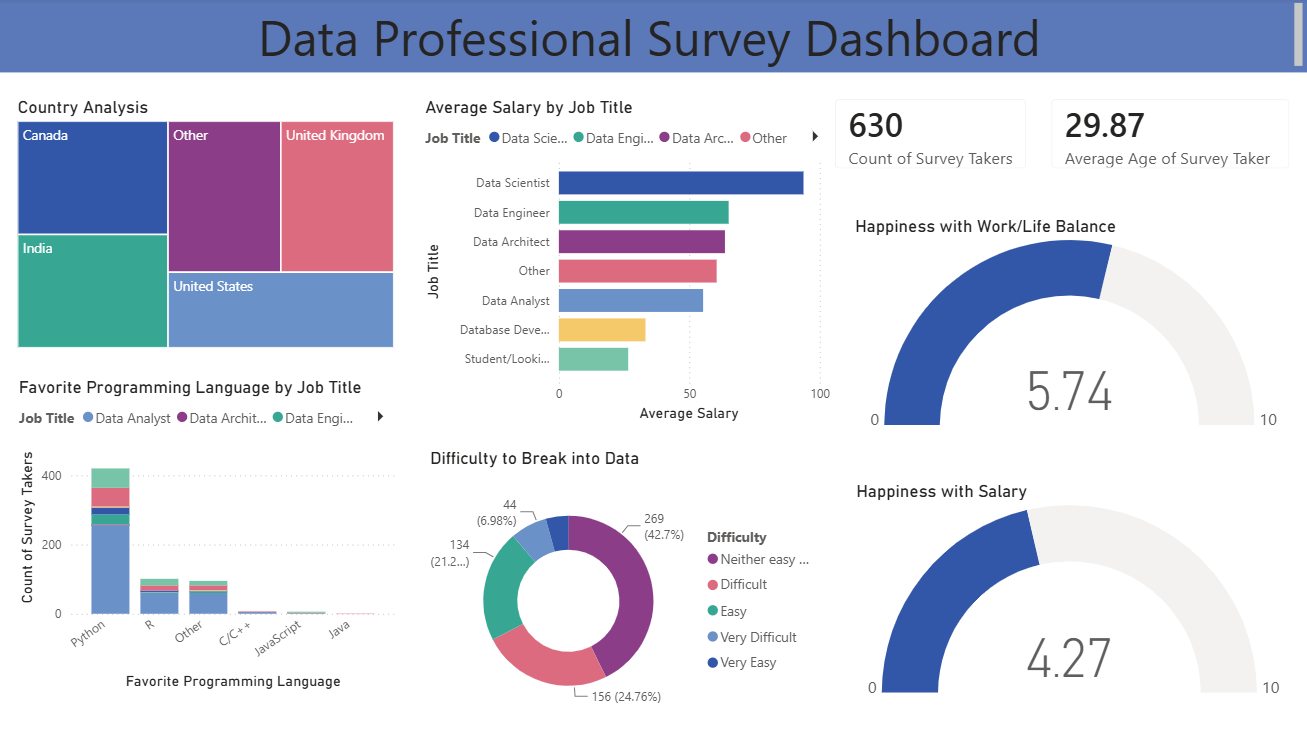

The page's visual inventory and layout, read from the dashboard file:
{"tool":"powerbi","page":{"name":"Page 1","canvas":[1280,720],"ordinal":0},"visuals":[{"type":"textbox","box":[0,0,1280.3,72.7],"z":0},{"type":"cardVisual","fields":{"Data":["Count(Data Professional Survey.Unique ID)"]},"box":[801,81.9,221.3,102.7],"z":1000},{"type":"cardVisual","fields":{"Data":["Avg(Data Professional Survey.Q10 - Current Age)"]},"box":[1012.5,81.9,267.8,102.7],"z":2000},{"type":"barChart","title":"Average Salary by Job Title","fields":{"Category":["Data Professional Survey.Q1 - Which Title Best Fits your Current Role?.1"],"Y":["Avg(Data Professional Survey.Average Salary)"],"Series":["Data Professional Survey.Q1 - Which Title Best Fits your Current Role?.1"]},"box":[412.1,96.6,406,322.8],"z":3000},{"type":"columnChart","title":"Favorite Programming Language by Job Title","fields":{"Category":["Data Professional Survey.Q5 - Favorite Programming Language.1"],"Y":["CountNonNull(Data Professional Survey.Unique ID)"],"Series":["Data Professional Survey.Q1 - Which Title Best Fits your Current Role?.1"]},"box":[14.7,370.5,377.9,310.6],"z":4000},{"type":"treemap","title":"Country Analysis","fields":{"Group":["Data Professional Survey.Q11 - Which Country do you live in?.1"],"Values":["Count(Data Professional Survey.Q11 - Which Country do you live in?.1)"]},"box":[13.5,96.6,377.9,250.7],"z":5000},{"type":"gauge","title":"Happiness with Work/Life Balance","fields":{"Y":["Avg(Data Professional Survey.Q6 - How Happy are you in your Current Position with the following? (Work/Life Balance))"],"MinValue":["Min(Data Professional Survey.Q6 - How Happy are you in your Current Position with the following? (Work/Life Balance))1"],"MaxValue":["Max(Data Professional Survey.Q6 - How Happy are you in your Current Position with the following? (Work/Life Balance))2"]},"box":[832.7,212.8,437.8,215.2],"z":6000},{"type":"gauge","title":"Happiness with Salary","fields":{"Y":["Avg(Data Professional Survey.Q6 - How Happy are you in your Current Position with the following? (Salary))"],"MinValue":["Min(Data Professional Survey.Q6 - How Happy are you in your Current Position with the following? (Salary))1"],"MaxValue":["Max(Data Professional Survey.Q6 - How Happy are you in your Current Position with the following? (Salary))2"]},"box":[834,472,435.3,217.7],"z":7000},{"type":"donutChart","title":"Difficulty to Break into Data","fields":{"Category":["Data Professional Survey.Q7 - How difficult was it for you to break into Data?"],"Y":["CountNonNull(Data Professional Survey.Q7 - How difficult was it for you to break into Data?)"]},"box":[417,440.2,397.4,280],"z":8000}]}

Visuals, with their boxes in screenshot pixels (x1, y1, x2, y2), scaled from the page's 1280x720 canvas onto the 1307x731 screenshot:
textbox: locate(0, 0, 1306, 74)
cardVisual - Count(Data Professional Survey.Unique ID): locate(818, 83, 1044, 187)
cardVisual - Avg(Data Professional Survey.Q10 - Current Age): locate(1034, 83, 1306, 187)
"Average Salary by Job Title" barChart: locate(421, 98, 835, 426)
"Favorite Programming Language by Job Title" columnChart: locate(15, 376, 401, 692)
"Country Analysis" treemap: locate(14, 98, 400, 353)
"Happiness with Work/Life Balance" gauge: locate(850, 216, 1297, 435)
"Happiness with Salary" gauge: locate(852, 479, 1296, 700)
"Difficulty to Break into Data" donutChart: locate(426, 447, 832, 730)
